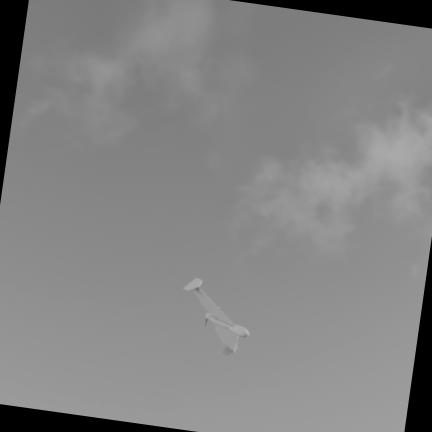Shahed: (184, 277, 248, 354)
